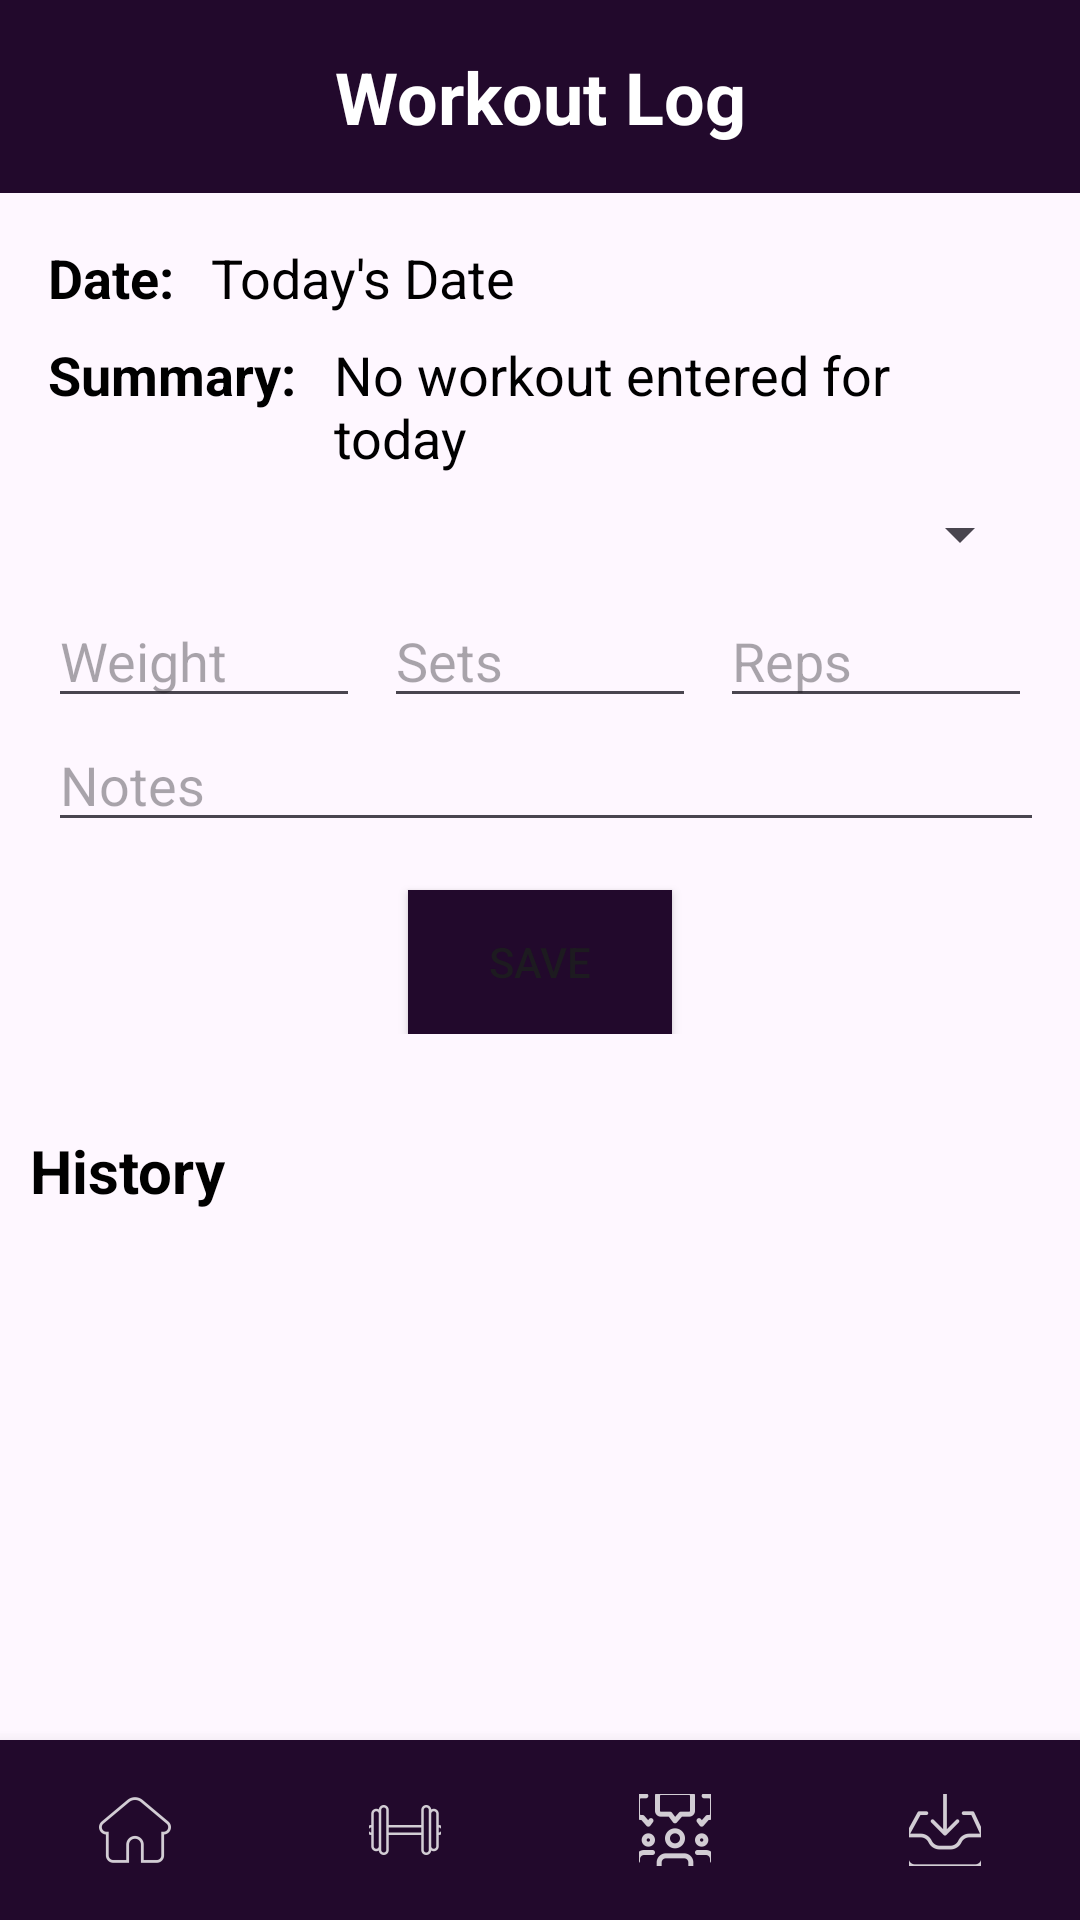

Named icons in this screenshot (1080x1920) and their centers, (x=x, y=y):
forum: (x=675, y=1830)
home: (x=135, y=1830)
inbox: (x=945, y=1830)
workout: (x=405, y=1830)
